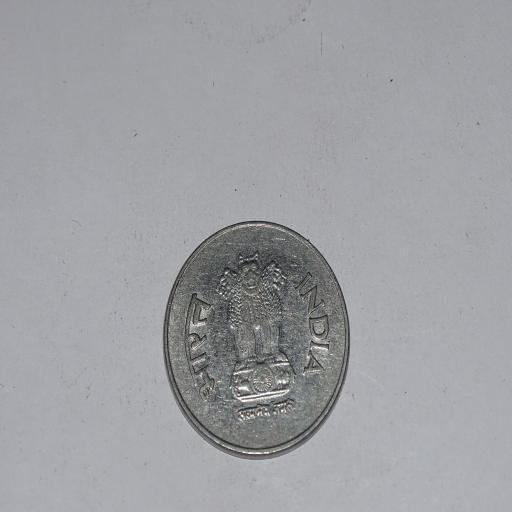rupee1: (163, 220, 348, 456)
